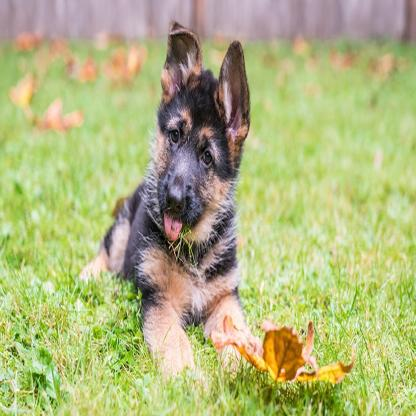german shepherd: (76, 19, 258, 374)
